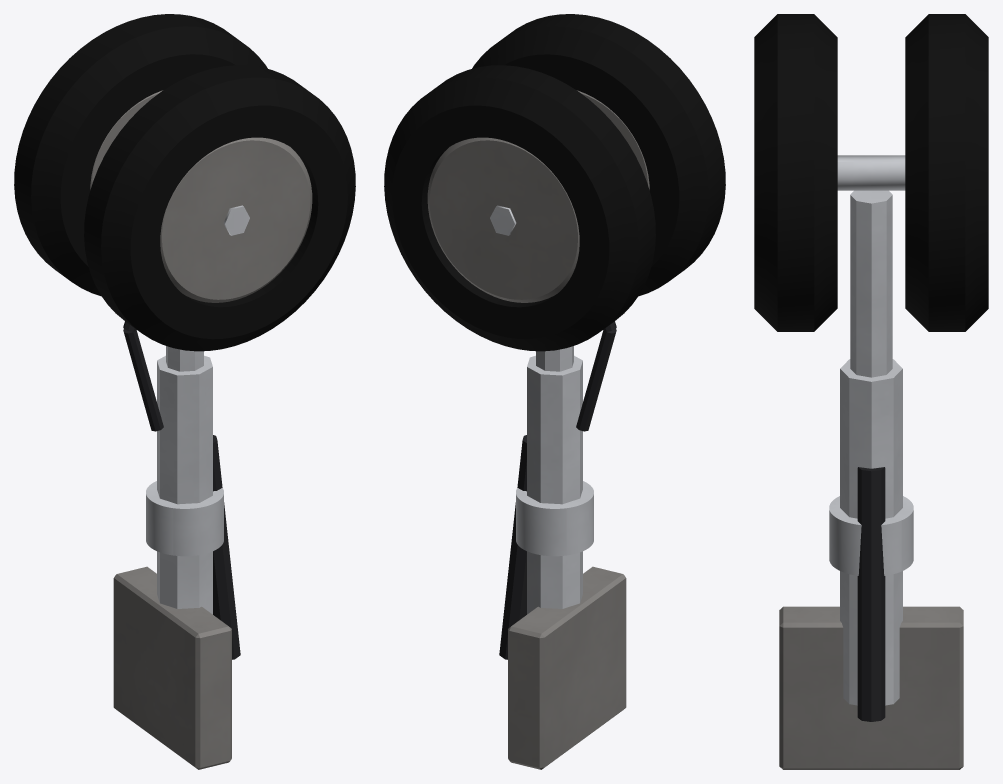
The model's file is ax_gear_02_main_gear_m_stowed.glb.
The picture shows the model from 3 angles, left to right: view 1: azimuth 30°, elevation 25°; view 2: azimuth 150°, elevation 25°; view 3: azimuth 270°, elevation 25°; orthographic projection. The views are drawn at different scales.
Visible parts, largest first — view 1: wheel_tyres, wheel_hubs, mount_block, gear_leg, gear_links, gear_axles; view 2: wheel_tyres, wheel_hubs, mount_block, gear_leg, gear_links, gear_axles; view 3: wheel_tyres, mount_block, gear_leg, gear_links, gear_axles.
Boxes of the visible parts, x1,y1,x2,y2 form: wheel_tyres: [14, 14, 355, 351]; wheel_hubs: [90, 90, 312, 302]; mount_block: [113, 566, 231, 769]; gear_leg: [146, 346, 223, 614]; gear_links: [123, 321, 240, 659]; gear_axles: [223, 205, 249, 235]; wheel_tyres: [384, 14, 725, 351]; wheel_hubs: [427, 90, 649, 302]; mount_block: [508, 566, 626, 769]; gear_leg: [516, 346, 593, 614]; gear_links: [499, 321, 616, 659]; gear_axles: [490, 205, 516, 235]; wheel_tyres: [754, 14, 988, 331]; mount_block: [779, 606, 963, 769]; gear_leg: [829, 190, 913, 705]; gear_links: [857, 467, 885, 721]; gear_axles: [837, 155, 905, 190].
Size of the model in its own units: 0.8397 by 2.15 by 0.6193.
Materials: 4 (2 with a texture image).
